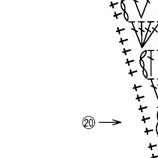enseble_chain: (118, 0, 153, 50), (138, 49, 158, 79), (126, 0, 152, 23), (134, 20, 152, 46), (98, 115, 123, 130), (83, 116, 94, 130)
